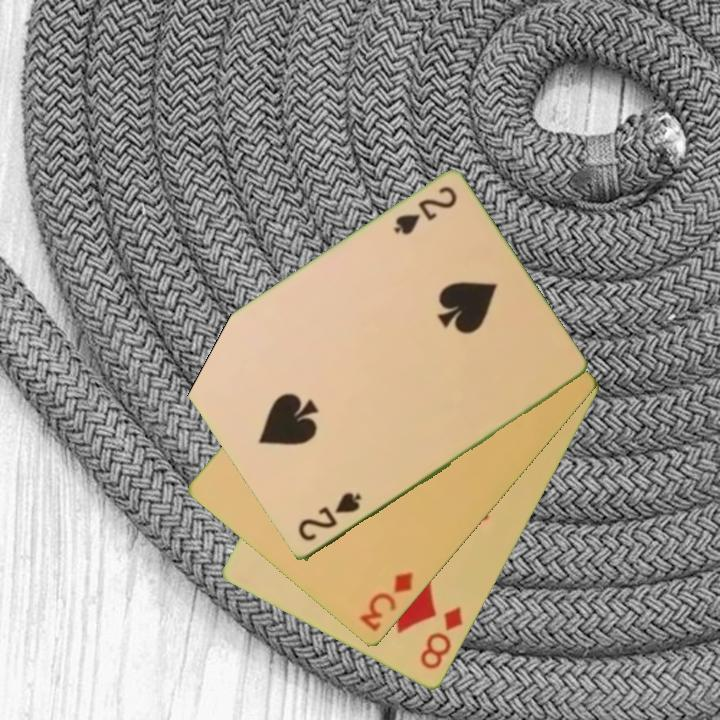2s: (294, 489, 365, 545), (389, 183, 460, 239)
3d: (356, 568, 417, 636)
8d: (416, 603, 467, 673)
